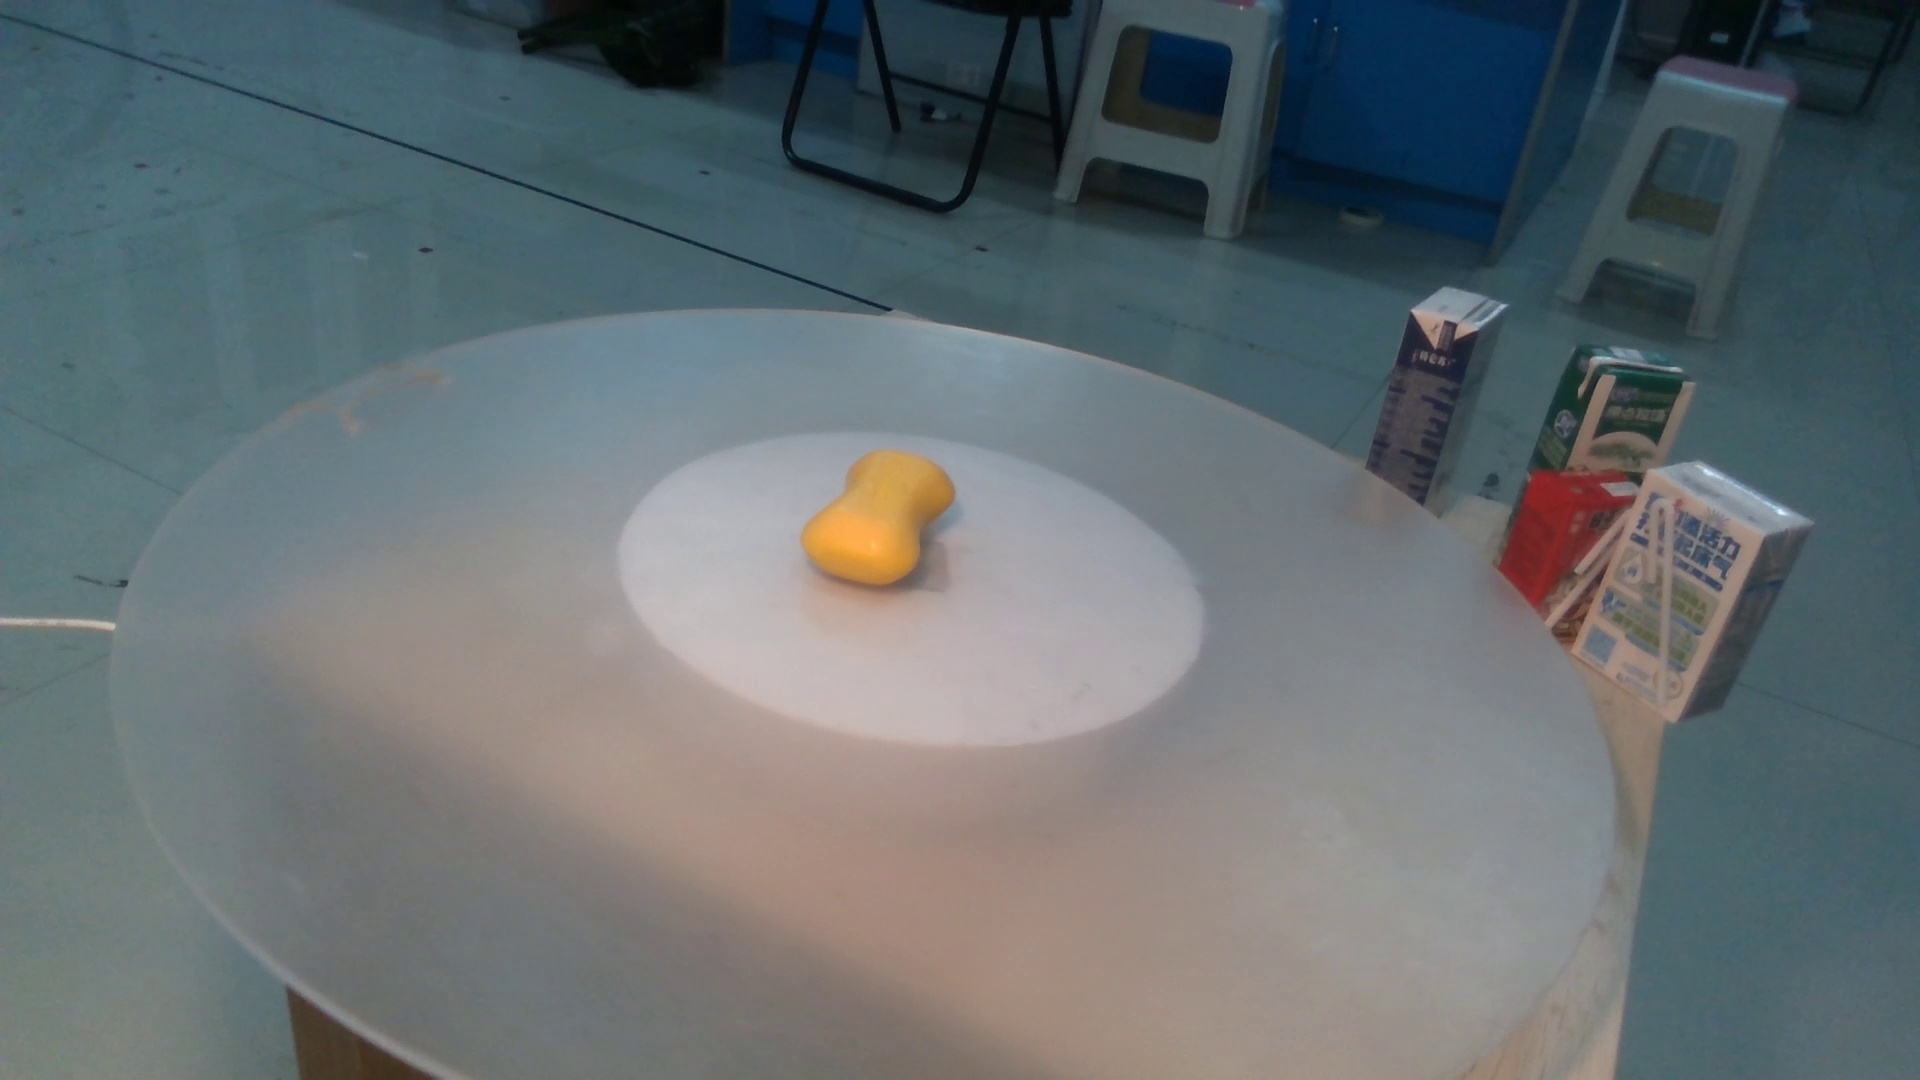CA003_1: (785, 436, 977, 605)
